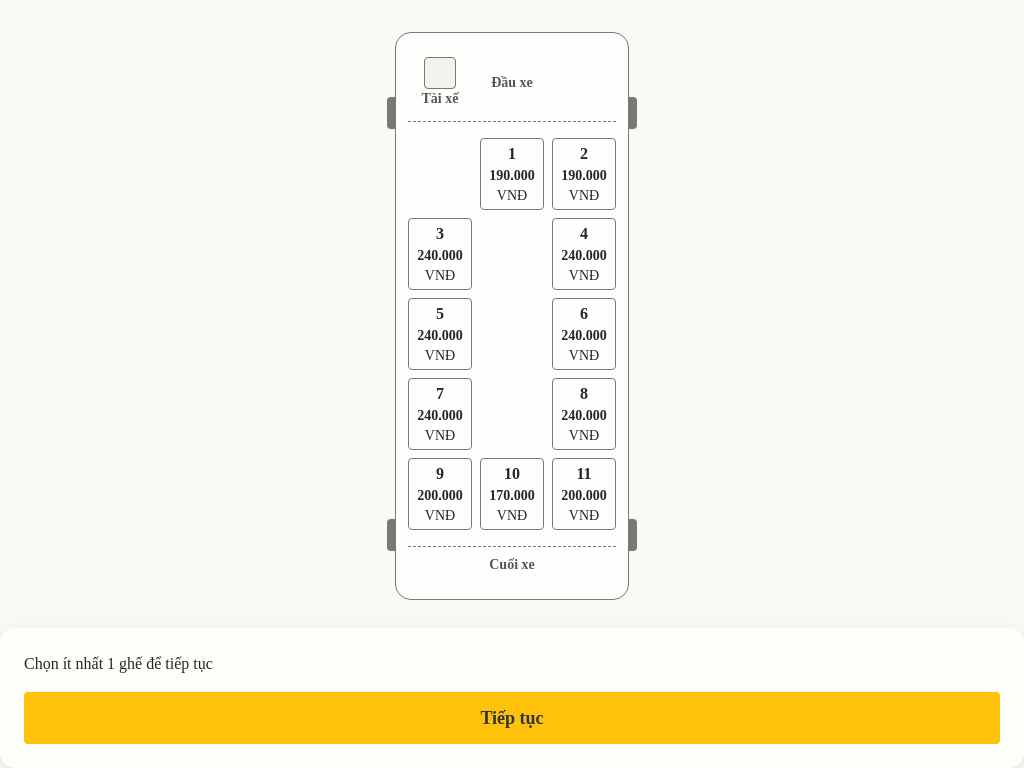
Test: SeatPanel: gợi ý chọn ghế và aria-disabled › bấm Tiếp tục khi chưa chọn ghế: gợi ý chuyển sang kiểu lỗi (icon + chữ), không toast, không POST
(page scrolled)
Click the button "Tiếp tục". click: [512, 718]
box: [24,692,1000,744]
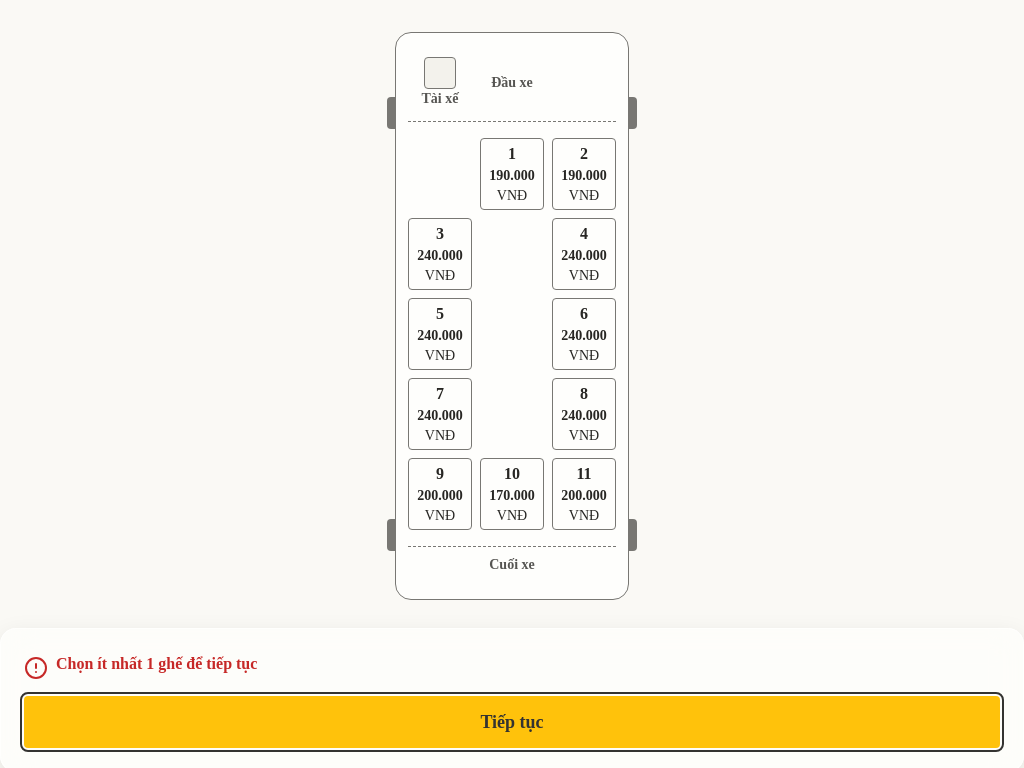
Now the icon next to "Chọn ít nhất 1 ghế để tiếp tục" is shown, box [24,656,48,680]
